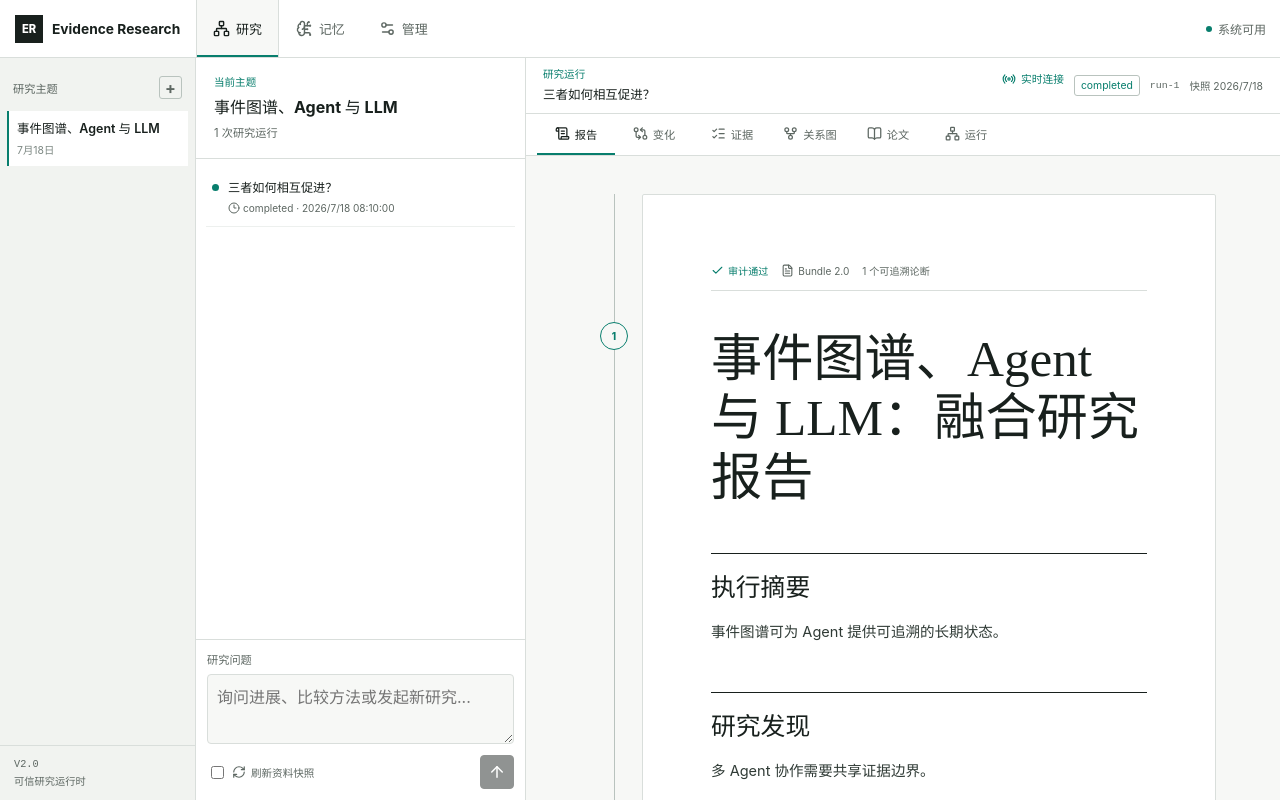
research workspace › selects graph evidence without exposing model reasoning
Click the tab "关系图": (810, 134) [771,114,849,155]
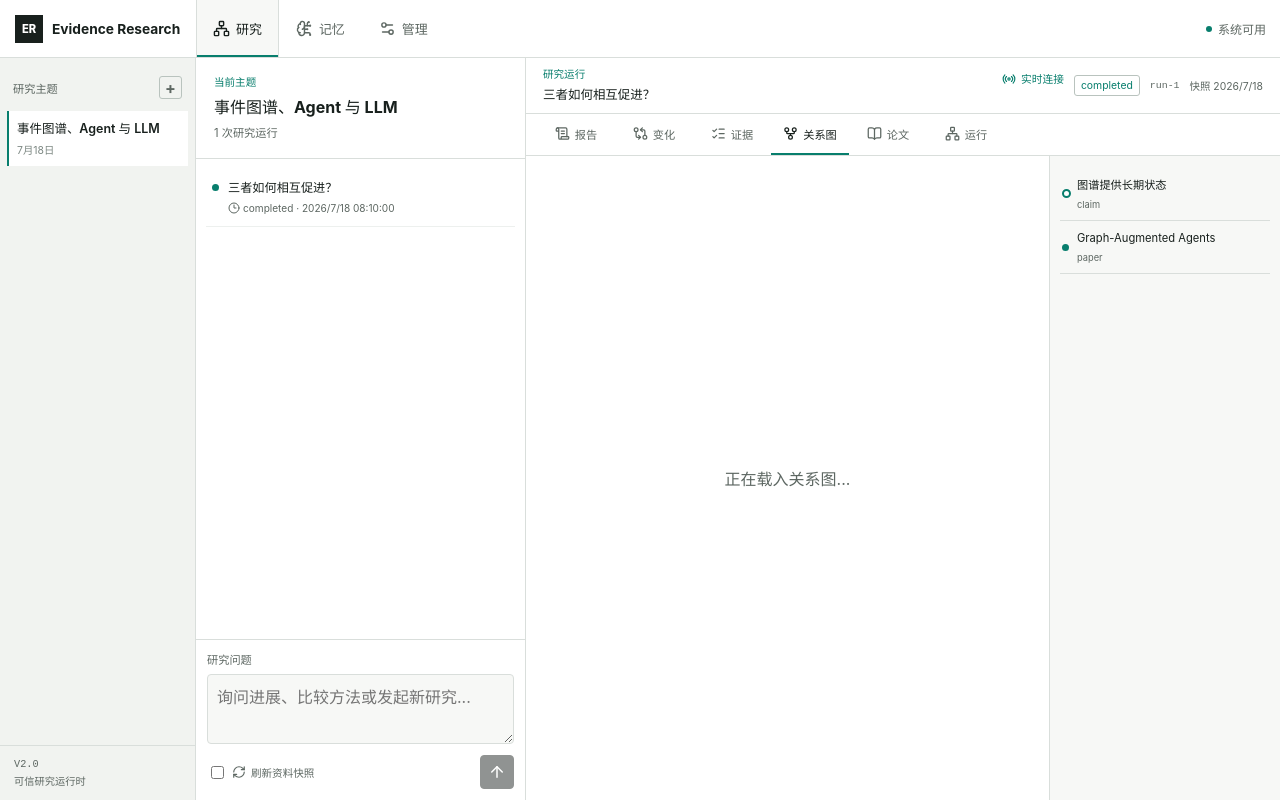
Click the button "Graph-Augmented Agents paper": (1165, 248) [1060,221,1270,274]
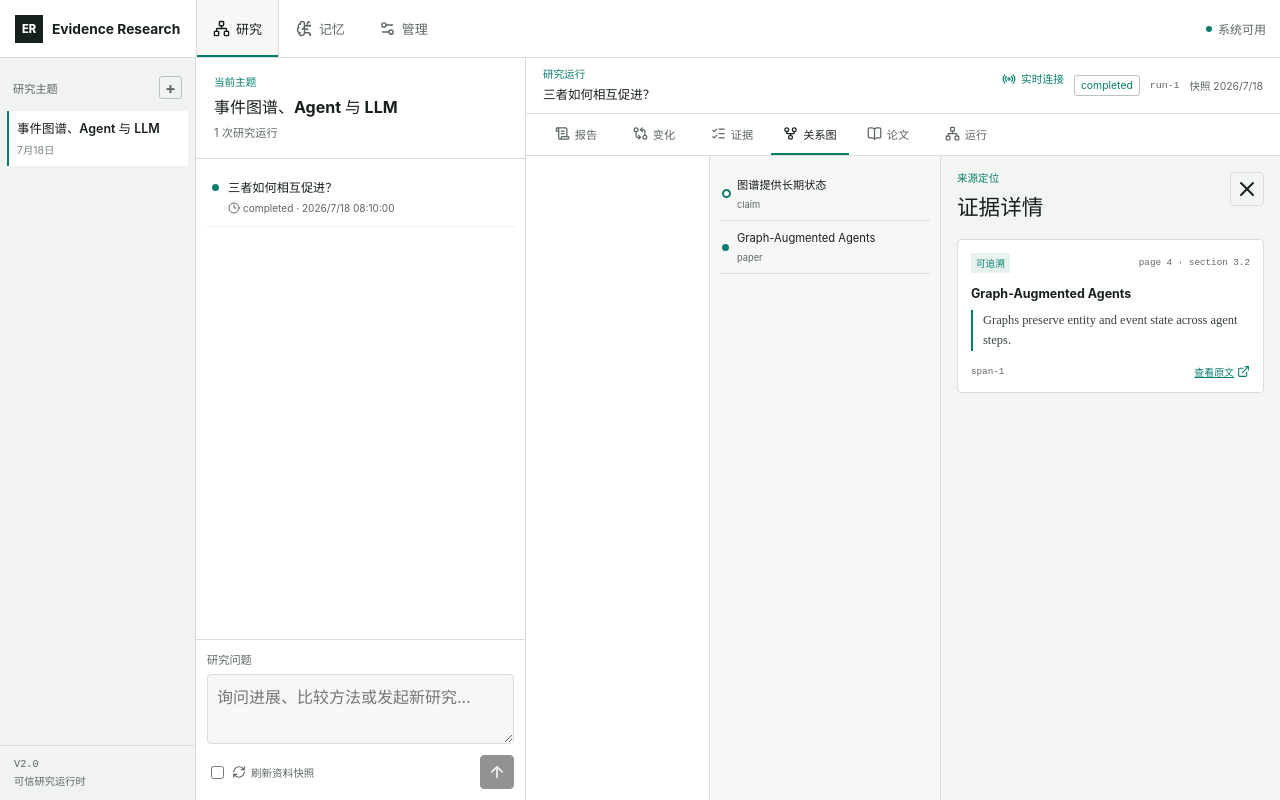
Check: the text "Graphs preserve entity and event state across agent steps." is shown, box [971,310,1250,351]
